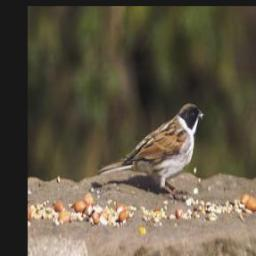Sparrow: (99, 101, 206, 199)
